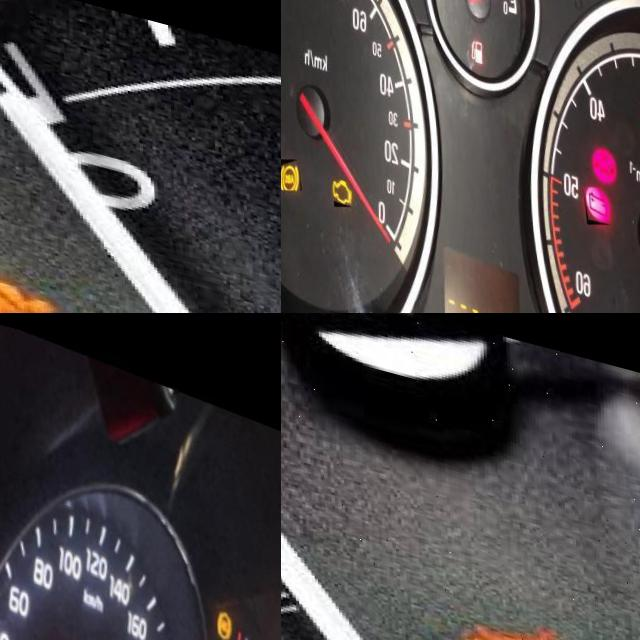Seat Belt: (456, 596, 578, 640), (0, 232, 53, 313)
